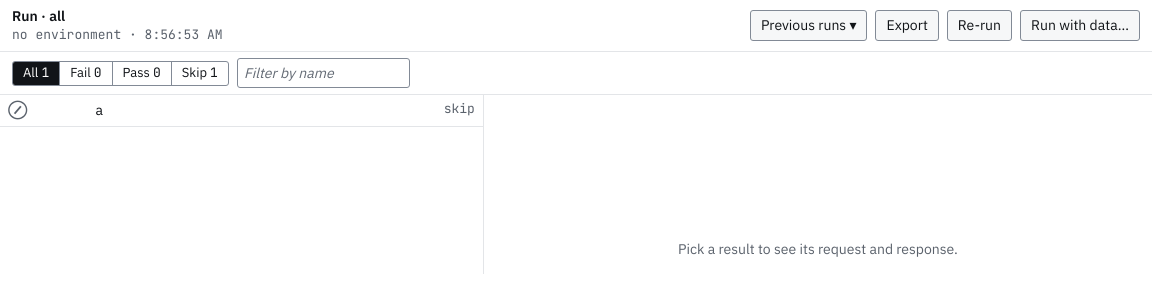
Test case: run result detail and history › a skipped row shows its reason and no tabs
Step 1. Click the row → (241, 111), box [0,95,483,126]
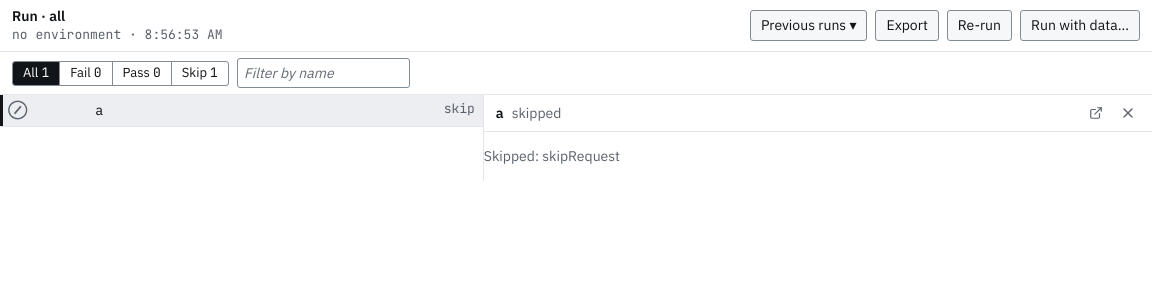
Expected: the text "Skipped: skipRequest" is shown, [484,147,620,165]
